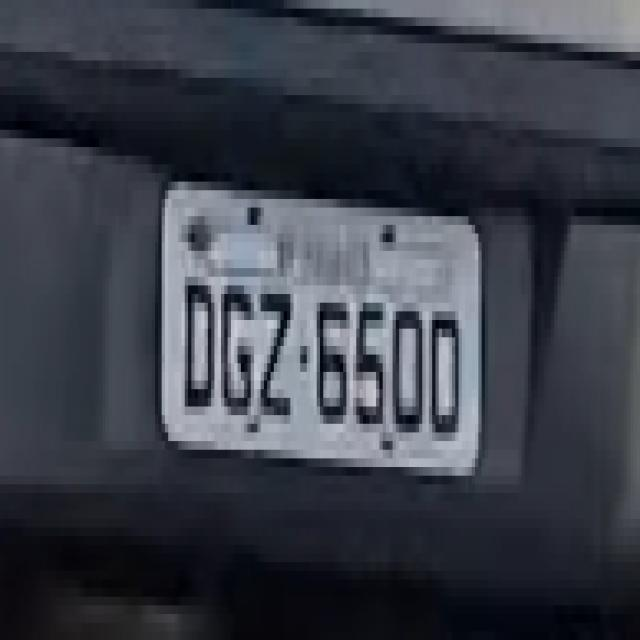Placa_mercosul_carro: (160, 173, 482, 476)
